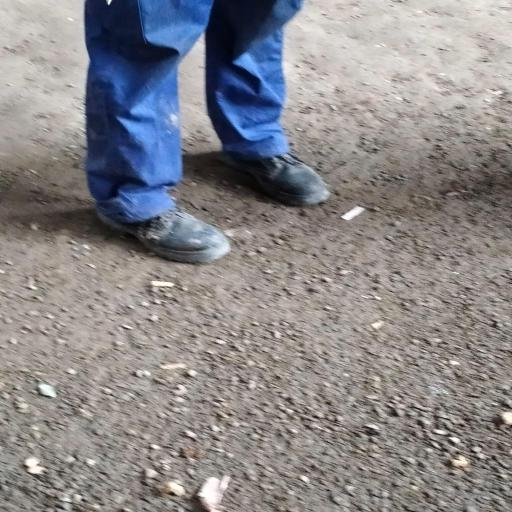safety_shoe: (94, 183, 232, 265), (230, 130, 335, 209)
